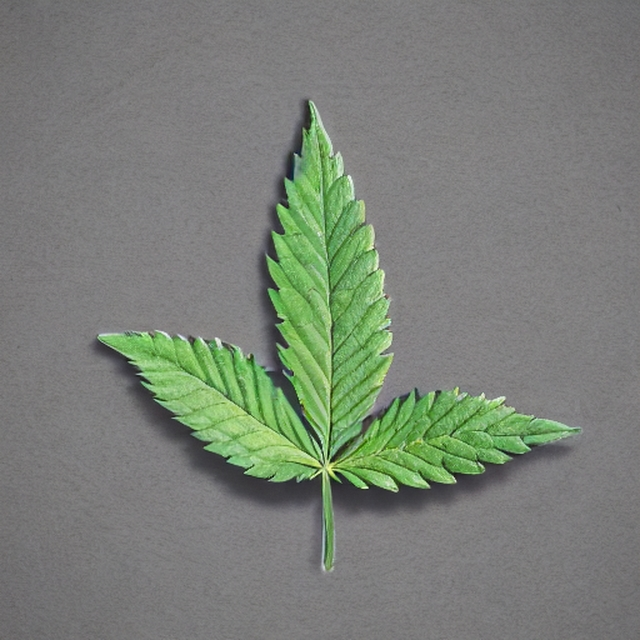Marijuana Leaf: (94, 97, 582, 572)
